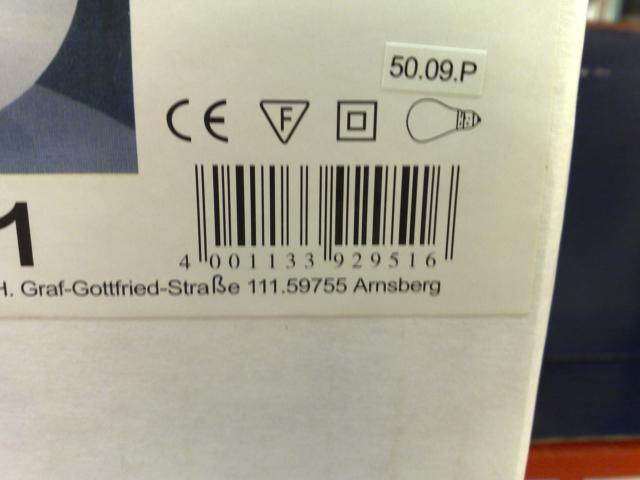Barcode: (168, 150, 478, 275)
